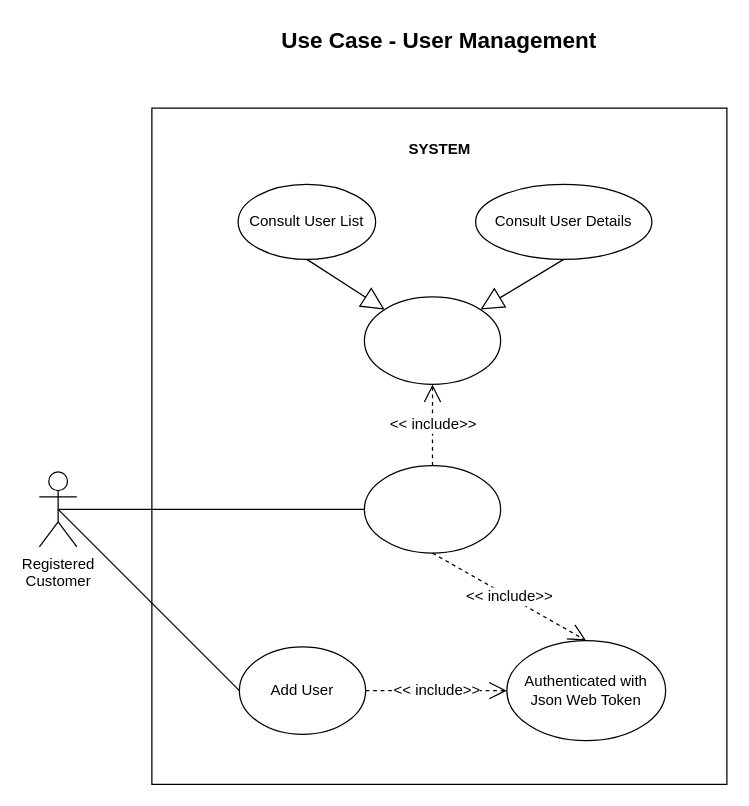
Image size: 749x806. Some labels were removed from this diagram. The shapes that lost their labels are listed below. From the top down, each one's box as (x1, y1, x2, y2) in pixels, then its label:
(363, 296, 501, 384): Get User ID
(363, 464, 501, 553): Delete User
